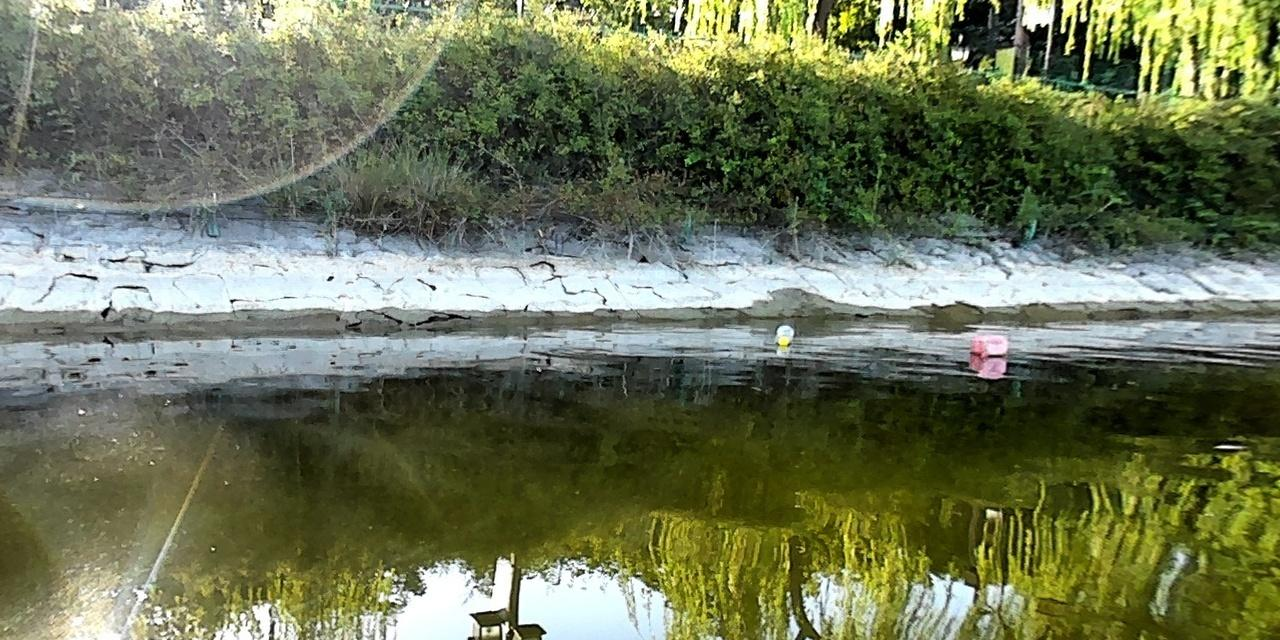bottle: (963, 329, 1009, 358), (772, 321, 796, 350)
